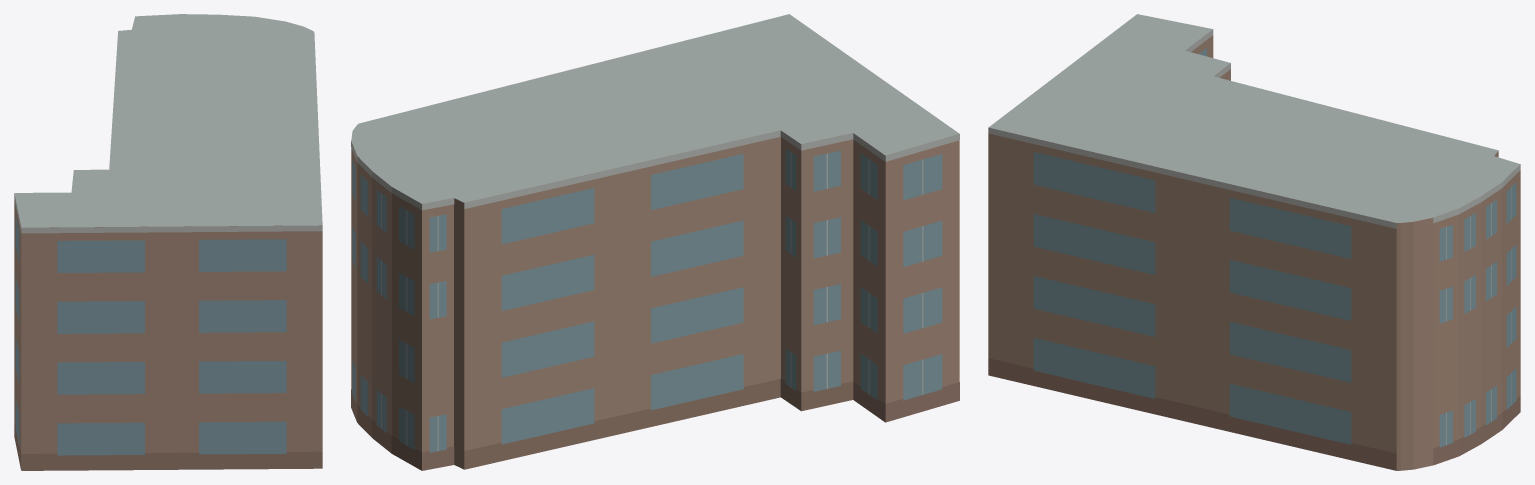
File: survey-upis-32493580.glb
The picture shows the model from 3 angles, left to right: view 1: azimuth 30°, elevation 25°; view 2: azimuth 150°, elevation 25°; view 3: azimuth 270°, elevation 25°; orthographic projection. The views are drawn at different scales.
Visible parts, largest first — view 1: survey-upis-32493580.tmp; view 2: survey-upis-32493580.tmp; view 3: survey-upis-32493580.tmp.
Boxes of the visible parts, x1,y1,x2,y2 form: survey-upis-32493580.tmp: (14,14,322,470); survey-upis-32493580.tmp: (351,14,959,470); survey-upis-32493580.tmp: (988,14,1520,470).
Bounding box in the file's own units: 18.64 × 10.3 × 20.06.
